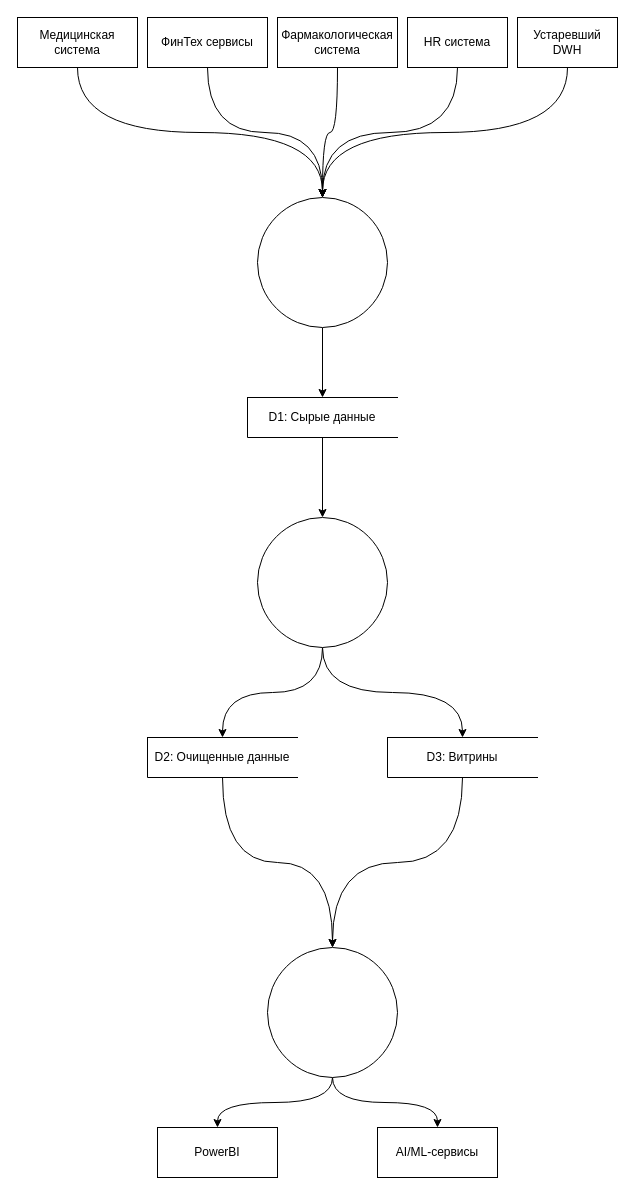
Some shapes in this 635 by 1195 pixel diagram are drawn without their labels. Each missing label, with the centre of its shape:
"1. Загрузка данных" belongs at (322,262).
"2. Преобразование данных (ETL)" belongs at (322,582).
"3. Использование данных" belongs at (332,1012).
